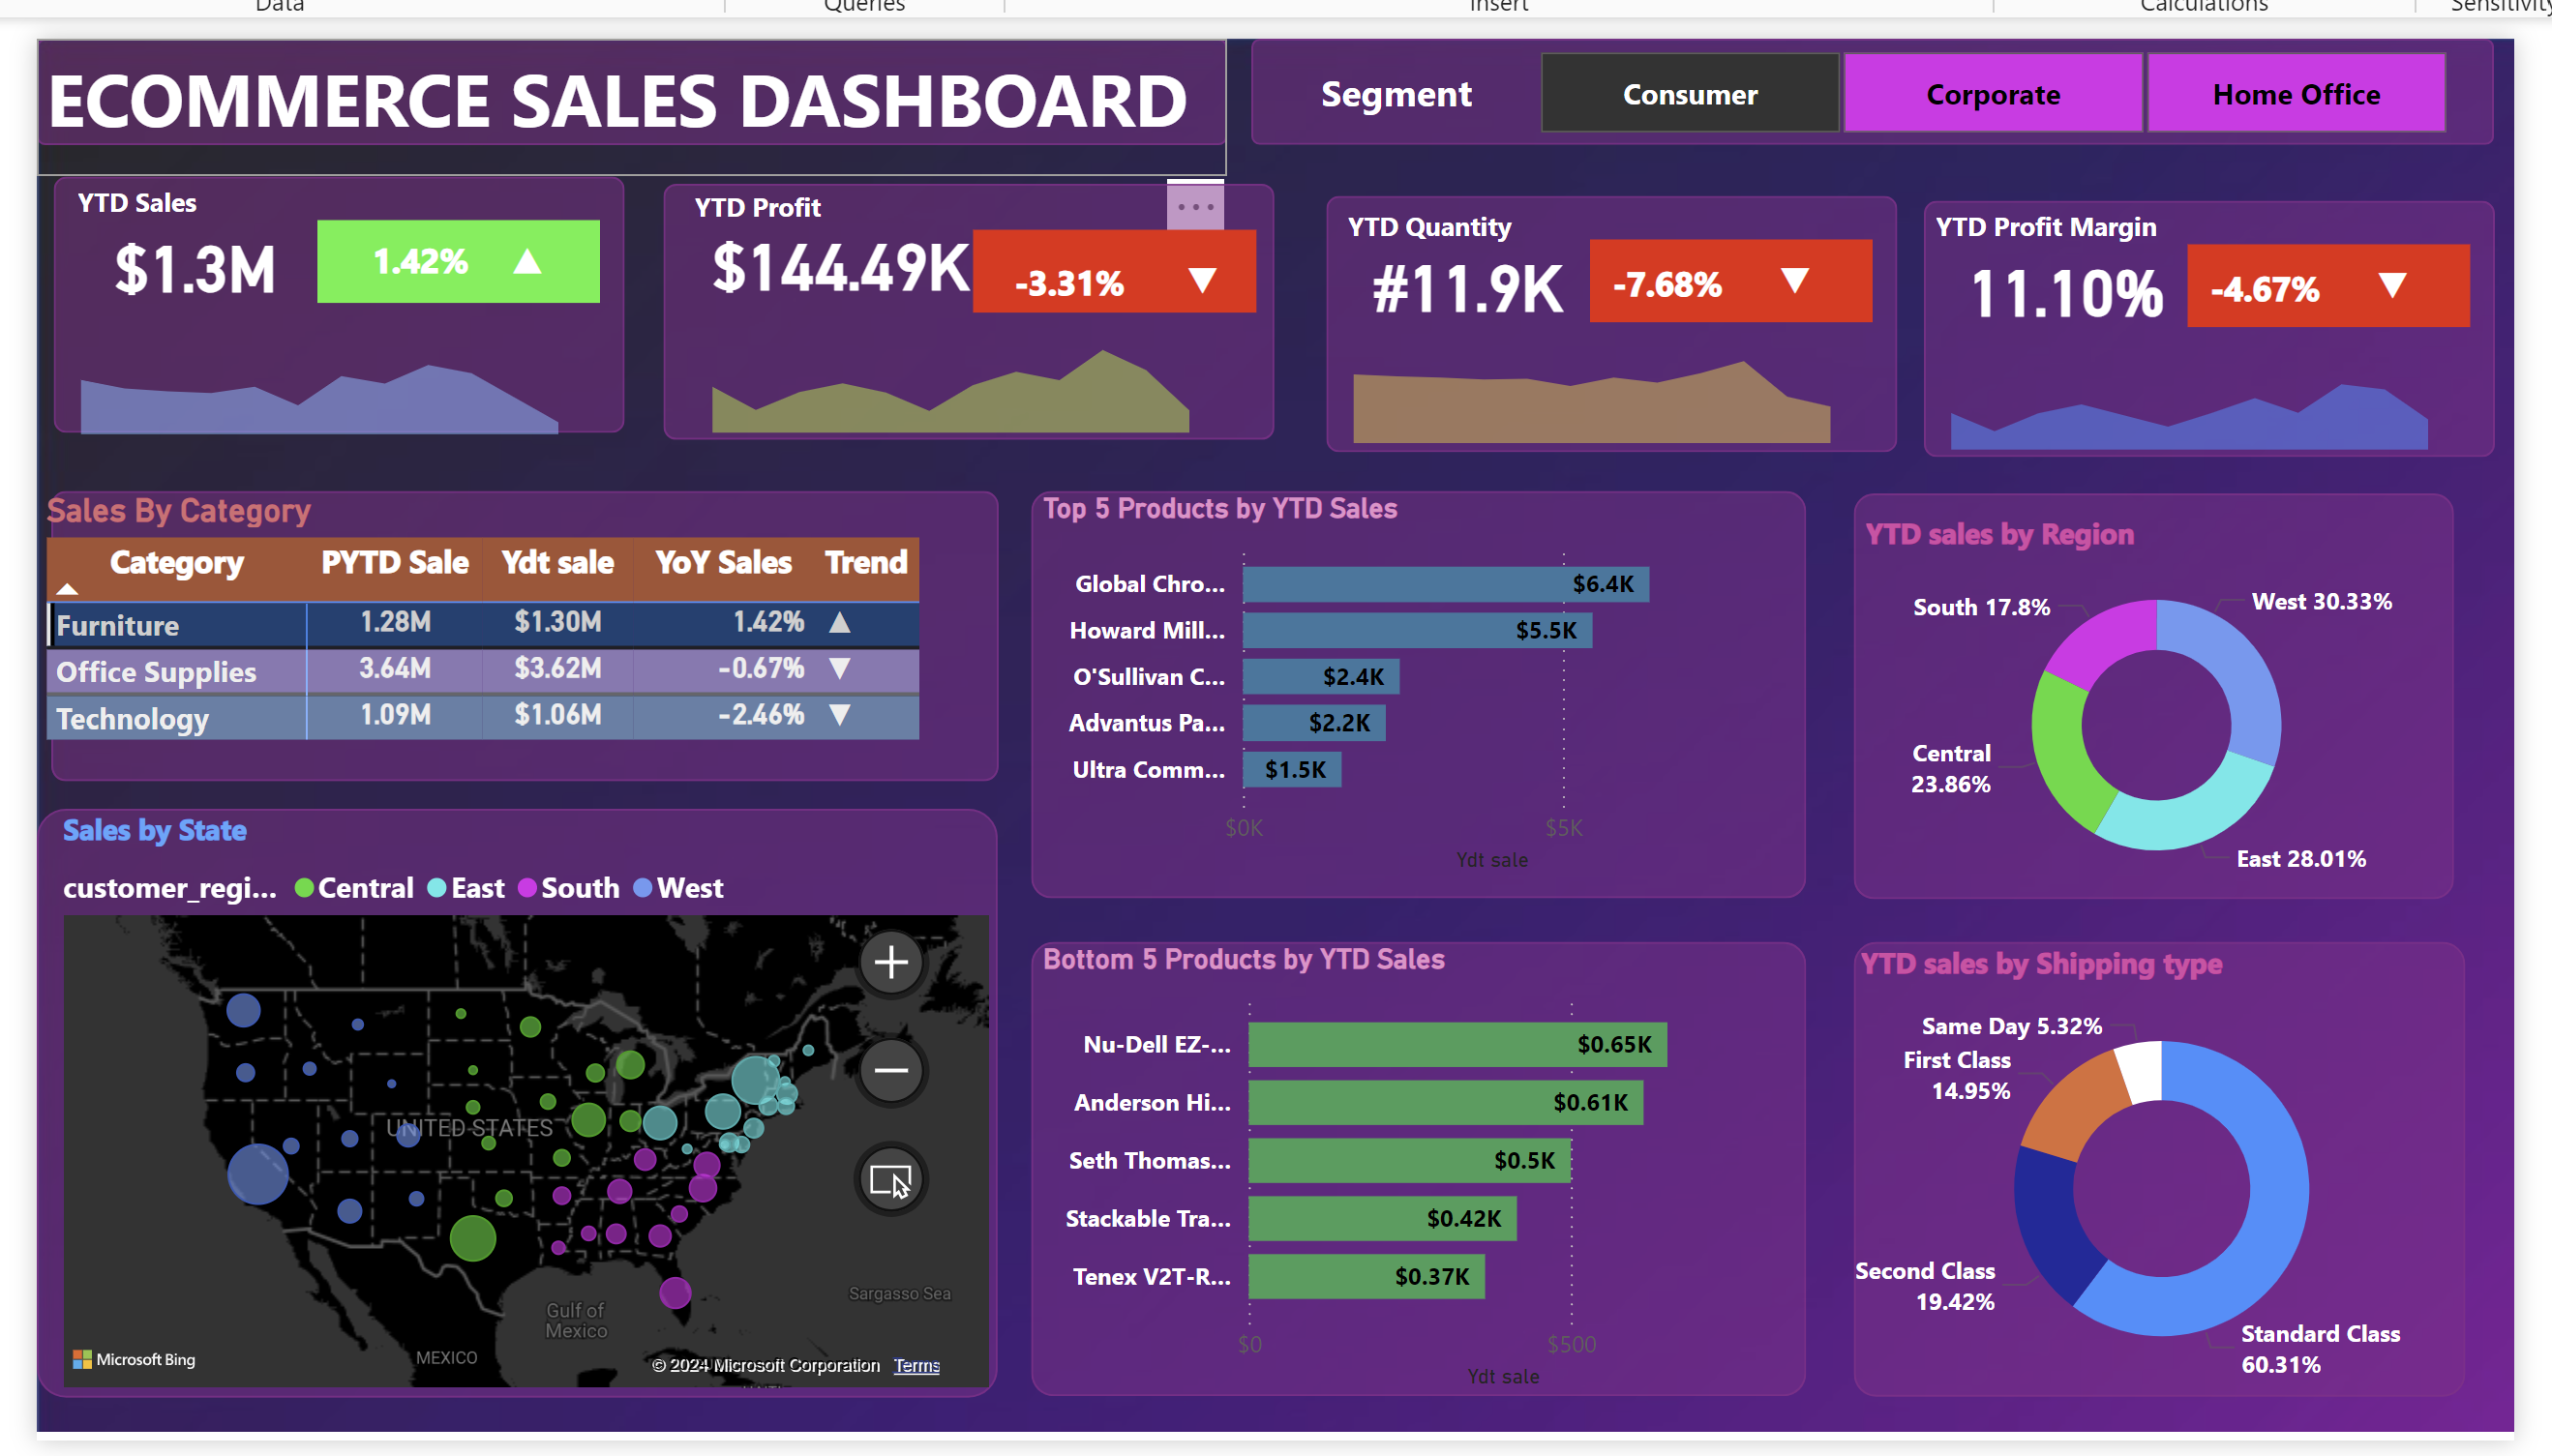

This screenshot's page, from the dashboard's own definition file:
{"tool":"powerbi","page":{"name":"Page 1","canvas":[1280,724],"ordinal":0},"visuals":[{"type":"shape","box":[0,0,615,55],"z":0},{"type":"textbox","box":[0,0,614.6,70.7],"z":1000},{"type":"shape","box":[8.5,70.7,295,132.5],"z":2000},{"type":"card","fields":{"Values":["ecommerce_data.Ydt sale"]},"box":[8.5,94.4,146.2,42.5],"z":3000},{"type":"areaChart","fields":{"Category":["Date_table.Month"],"Y":["ecommerce_data.sales_per_order"]},"box":[8.8,140.8,274.5,68.3],"z":4000},{"type":"shape","box":[145.6,93.7,145.9,42.7],"z":5000},{"type":"card","fields":{"Values":["ecommerce_data.YoY sales"]},"box":[156.3,102.6,83.6,26.7],"z":6000},{"type":"card","fields":{"Values":["ecommerce_data.sale icon"]},"box":[215,102.6,76.5,26.7],"z":7000},{"type":"textbox","box":[15.7,70.6,202.9,46.3],"z":8000},{"type":"shape","box":[324.3,75.4,315.7,132.3],"z":9000},{"type":"card","fields":{"Values":["ecommerce_data.Ydt Profit"]},"box":[341.3,93.9,147.9,42.7],"z":10000},{"type":"areaChart","fields":{"Category":["Date_table.Month"],"Y":["ecommerce_data.profit_per_order"]},"box":[335.4,140.4,274.3,68.6],"z":11000},{"type":"shape","box":[483.6,98.1,146.5,42.7],"z":12000},{"type":"card","fields":{"Values":["ecommerce_data.YoY profit"]},"box":[483.6,109.5,99.6,35.6],"z":13000},{"type":"card","fields":{"Values":["ecommerce_data.Profit icon"]},"box":[563.2,112.4,76.8,27],"z":14000},{"type":"textbox","box":[334.6,73,202.9,46.3],"z":15000},{"type":"shape","box":[665.8,81.3,295,132.5],"z":16000},{"type":"card","fields":{"Values":["ecommerce_data.Concatented YDT QTY"]},"box":[665.8,105,146.2,42.5],"z":17000},{"type":"areaChart","fields":{"Category":["Date_table.Month"],"Y":["ecommerce_data.order_quantity"]},"box":[665.8,146.1,274.3,68.6],"z":18000},{"type":"shape","box":[802.8,104.3,145.9,42.7],"z":19000},{"type":"card","fields":{"Values":["ecommerce_data.YoY Quantity"]},"box":[790.2,108.6,105,39.2],"z":20000},{"type":"card","fields":{"Values":["ecommerce_data.Quantity icon"]},"box":[869.6,112.5,76.5,26.7],"z":21000},{"type":"textbox","box":[672.7,82.5,203.4,46.9],"z":22000},{"type":"shape","box":[974.8,83.4,295,132.5],"z":23000},{"type":"card","fields":{"Values":["ecommerce_data.YTD Profit Margin"]},"box":[974.8,107.2,146.2,42.5],"z":24000},{"type":"areaChart","fields":{"Category":["Date_table.Month"],"Y":["ecommerce_data.Profit Margin"]},"box":[974.8,148.3,274.3,68.6],"z":25000},{"type":"shape","box":[1111.8,106.5,145.9,42.7],"z":26000},{"type":"card","fields":{"Values":["ecommerce_data.YoY profit margin"]},"box":[1099.2,110.7,105,39.2],"z":27000},{"type":"card","fields":{"Values":["ecommerce_data.Profit margin icon"]},"box":[1178.6,114.7,76.5,26.7],"z":28000},{"type":"textbox","box":[976.4,82.3,202.9,46.3],"z":29000},{"type":"shape","box":[7.1,233.2,489.4,149.5],"z":30000},{"type":"pivotTable","title":"Sales By Category","fields":{"Rows":["ecommerce_data.category_name"],"Values":["ecommerce_data.PYTD Sale","ecommerce_data.Ydt sale","ecommerce_data.YoY Sales","ecommerce_data.sales icon"]},"box":[0,233.2,489.4,149.5],"z":31000},{"type":"shape","box":[0,396.9,496.6,304.3],"z":32000},{"type":"map","title":"Sales by State","fields":{"Y":["us_state_long_lat_codes.latitude"],"X":["us_state_long_lat_codes.longitude"],"Size":["ecommerce_data.Ydt sale"],"Series":["ecommerce_data.customer_region"]},"box":[8.9,396.9,487.7,304.3],"z":33000},{"type":"shape","box":[514.4,233.2,400.5,210],"z":34000},{"type":"shape","box":[514.4,466.3,400.5,234.9],"z":35000},{"type":"barChart","title":"Top 5 Products by YTD Sales","fields":{"Category":["ecommerce_data.product_name"],"Y":["ecommerce_data.Ydt sale"]},"box":[515.1,233.7,380.9,200.5],"z":36000},{"type":"barChart","title":"Bottom 5 Products by YTD Sales","fields":{"Category":["ecommerce_data.product_name"],"Y":["ecommerce_data.Ydt sale"]},"box":[515.1,466,392.4,235.2],"z":37000},{"type":"shape","box":[939.2,235.2,310.2,209.2],"z":38000},{"type":"shape","box":[939.2,466,316,235.2],"z":39000},{"type":"donutChart","title":"YTD sales by Region","fields":{"Category":["ecommerce_data.customer_region"],"Y":["ecommerce_data.Ydt sale"]},"box":[940.1,244.6,310,199.1],"z":40000},{"type":"donutChart","title":"YTD sales by Shipping type","fields":{"Y":["ecommerce_data.Ydt sale"],"Category":["ecommerce_data.shipping_type"]},"box":[937.8,466,320.3,235.2],"z":41000},{"type":"shape","box":[627.6,0,642,54.8],"z":42000},{"type":"slicer","fields":{"Values":["ecommerce_data.customer_segment"]},"box":[750.9,0,517.7,55.5],"z":43000},{"type":"textbox","box":[658.5,10,186.3,71.1],"z":44000}]}

Visuals, with their boxes on the page's 1280x724 design canvas (x1, y1, x2, y2). These are canvas units, not pixel positions in the 2552x1456 screenshot, which may show the page scaled, cropped or inside an application window:
shape: [left=0, top=0, right=615, bottom=55]
textbox: [left=0, top=0, right=615, bottom=71]
shape: [left=8, top=71, right=304, bottom=203]
card - ecommerce_data.Ydt sale: [left=8, top=94, right=155, bottom=137]
areaChart - Date_table.Month x ecommerce_data.sales_per_order: [left=9, top=141, right=283, bottom=209]
shape: [left=146, top=94, right=292, bottom=136]
card - ecommerce_data.YoY sales: [left=156, top=103, right=240, bottom=129]
card - ecommerce_data.sale icon: [left=215, top=103, right=292, bottom=129]
textbox: [left=16, top=71, right=219, bottom=117]
shape: [left=324, top=75, right=640, bottom=208]
card - ecommerce_data.Ydt Profit: [left=341, top=94, right=489, bottom=137]
areaChart - Date_table.Month x ecommerce_data.profit_per_order: [left=335, top=140, right=610, bottom=209]
shape: [left=484, top=98, right=630, bottom=141]
card - ecommerce_data.YoY profit: [left=484, top=110, right=583, bottom=145]
card - ecommerce_data.Profit icon: [left=563, top=112, right=640, bottom=139]
textbox: [left=335, top=73, right=538, bottom=119]
shape: [left=666, top=81, right=961, bottom=214]
card - ecommerce_data.Concatented YDT QTY: [left=666, top=105, right=812, bottom=148]
areaChart - Date_table.Month x ecommerce_data.order_quantity: [left=666, top=146, right=940, bottom=215]
shape: [left=803, top=104, right=949, bottom=147]
card - ecommerce_data.YoY Quantity: [left=790, top=109, right=895, bottom=148]
card - ecommerce_data.Quantity icon: [left=870, top=112, right=946, bottom=139]
textbox: [left=673, top=82, right=876, bottom=129]
shape: [left=975, top=83, right=1270, bottom=216]
card - ecommerce_data.YTD Profit Margin: [left=975, top=107, right=1121, bottom=150]
areaChart - Date_table.Month x ecommerce_data.Profit Margin: [left=975, top=148, right=1249, bottom=217]
shape: [left=1112, top=106, right=1258, bottom=149]
card - ecommerce_data.YoY profit margin: [left=1099, top=111, right=1204, bottom=150]
card - ecommerce_data.Profit margin icon: [left=1179, top=115, right=1255, bottom=141]
textbox: [left=976, top=82, right=1179, bottom=129]
shape: [left=7, top=233, right=496, bottom=383]
"Sales By Category" pivotTable: [left=0, top=233, right=489, bottom=383]
shape: [left=0, top=397, right=497, bottom=701]
"Sales by State" map: [left=9, top=397, right=497, bottom=701]
shape: [left=514, top=233, right=915, bottom=443]
shape: [left=514, top=466, right=915, bottom=701]
"Top 5 Products by YTD Sales" barChart: [left=515, top=234, right=896, bottom=434]
"Bottom 5 Products by YTD Sales" barChart: [left=515, top=466, right=908, bottom=701]
shape: [left=939, top=235, right=1249, bottom=444]
shape: [left=939, top=466, right=1255, bottom=701]
"YTD sales by Region" donutChart: [left=940, top=245, right=1250, bottom=444]
"YTD sales by Shipping type" donutChart: [left=938, top=466, right=1258, bottom=701]
shape: [left=628, top=0, right=1270, bottom=55]
slicer - ecommerce_data.customer_segment: [left=751, top=0, right=1269, bottom=56]
textbox: [left=658, top=10, right=845, bottom=81]
